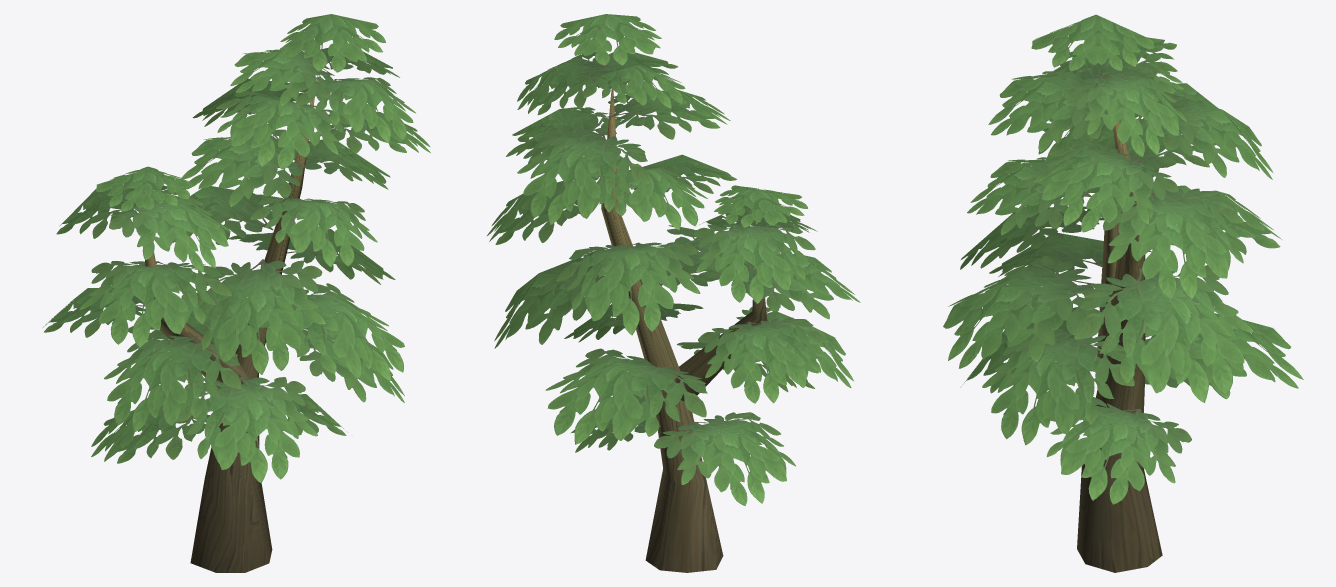
Rendered from main_map_tree_08f.fbx.
3 renders of one model, left to right at view 1: azimuth 30°, elevation 25°; view 2: azimuth 150°, elevation 25°; view 3: azimuth 270°, elevation 25°, orthographic. The views are drawn at different scales.
Parts seen in each view (by area): view 1: main_map_tree_08f; view 2: main_map_tree_08f; view 3: main_map_tree_08f.
Boxes of the visible parts, box(x1,y1,x2,y2) form: main_map_tree_08f: box(43, 14, 430, 572); main_map_tree_08f: box(487, 14, 860, 572); main_map_tree_08f: box(943, 14, 1303, 572).
Size of the model in its own units: 150 by 191 by 122.
